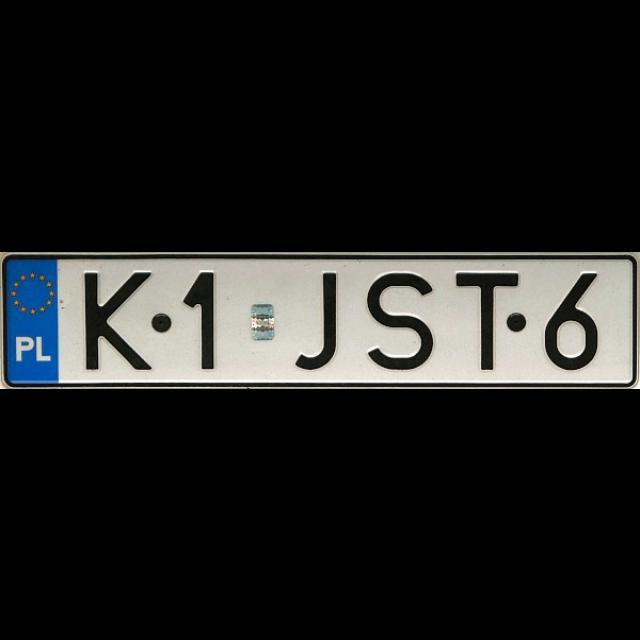license-plates: (3, 256, 637, 386)
